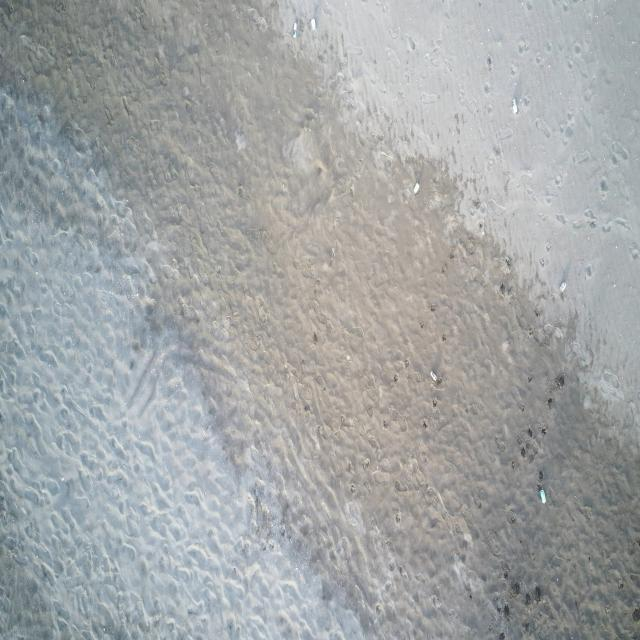Garbage: (431, 369, 440, 384), (537, 488, 544, 503), (292, 20, 298, 36), (430, 369, 437, 382), (412, 181, 419, 193), (559, 281, 566, 292), (512, 96, 516, 114), (310, 18, 315, 30)
